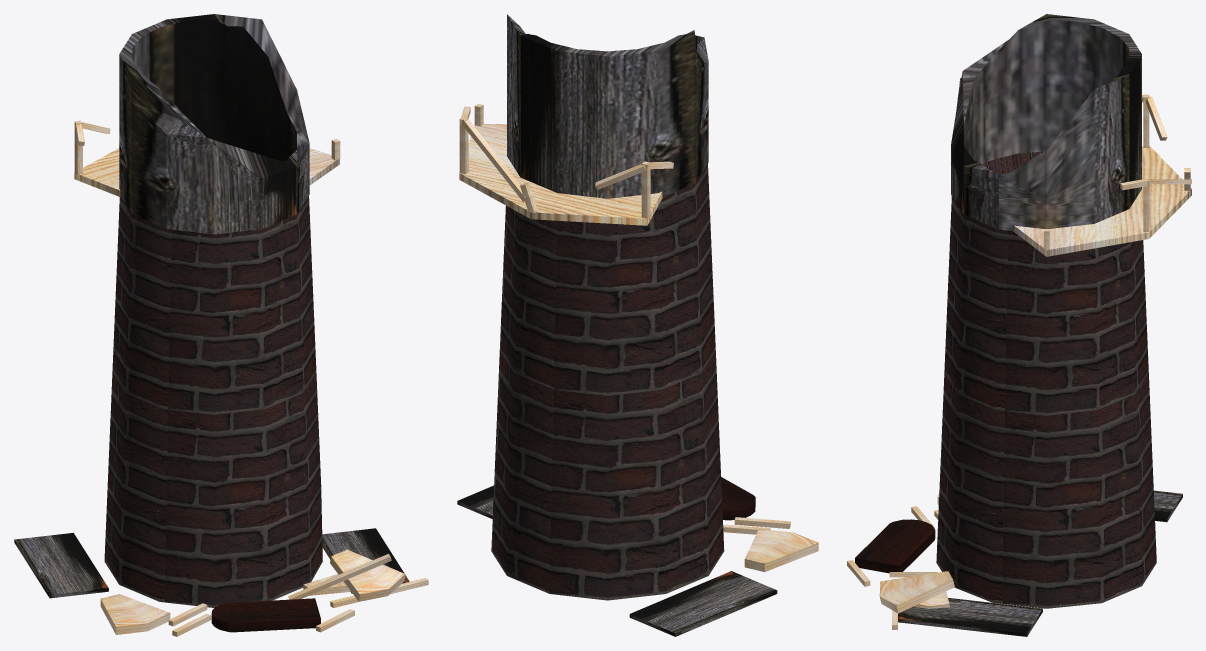
Rendered from breaktower.fbx.
3 views of the same model, side by side, from view 1: azimuth 30°, elevation 25°; view 2: azimuth 150°, elevation 25°; view 3: azimuth 270°, elevation 25° (orthographic). The views are drawn at different scales.
Visible parts, largest first — view 1: Cone001, Cylinder001, Box037, Box030, Box028, Cylinder002, Box029, Box038, Box034; view 2: Cone001, Cylinder001, Cylinder002, Box037, Box029, Box030, Box033, Box038, Box006; view 3: Cone001, Cylinder001, Cylinder002, Box038, Box030, Box028, Box037.
Boxes of the visible parts, x1,y1,x2,y2 form: Cone001: [104, 196, 322, 607]; Cylinder001: [119, 14, 309, 234]; Box037: [14, 533, 108, 598]; Box030: [211, 598, 320, 632]; Box028: [330, 549, 405, 601]; Cylinder002: [74, 148, 339, 197]; Box029: [100, 594, 170, 634]; Box038: [322, 528, 409, 593]; Box034: [288, 553, 391, 599]; Cone001: [491, 164, 724, 600]; Cylinder001: [507, 14, 708, 198]; Cylinder002: [459, 123, 662, 225]; Box037: [629, 571, 777, 636]; Box029: [744, 529, 818, 572]; Box030: [721, 477, 755, 520]; Box033: [461, 119, 525, 201]; Box038: [457, 485, 493, 518]; Box006: [641, 161, 650, 218]; Cone001: [936, 151, 1156, 608]; Cylinder001: [951, 14, 1141, 231]; Cylinder002: [1013, 146, 1191, 256]; Box038: [898, 598, 1042, 636]; Box030: [855, 519, 935, 573]; Box028: [879, 571, 954, 613]; Box037: [1154, 490, 1182, 522].
Bounding box in the file's own units: 1752 × 2728 × 1661.
Materials: 4 (4 with a texture image).
